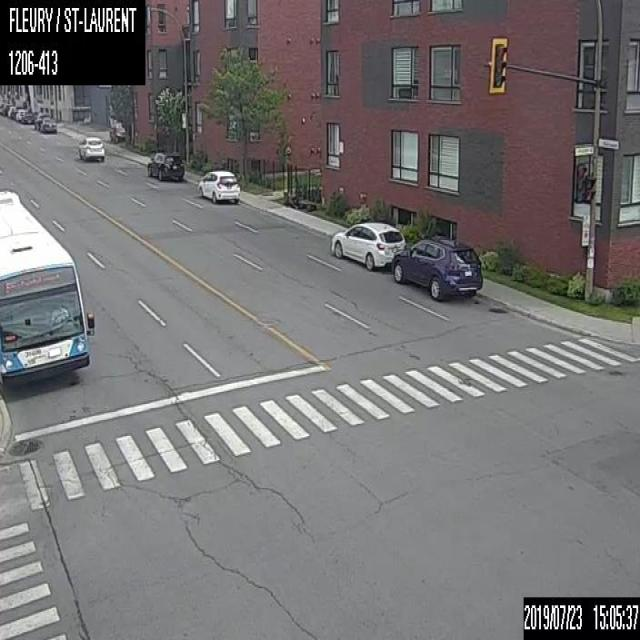bus: (0, 190, 94, 382)
vehicle: (391, 238, 483, 302), (330, 220, 406, 268), (196, 168, 240, 207), (144, 149, 183, 183), (76, 133, 104, 160), (34, 112, 49, 130), (40, 116, 56, 132), (21, 110, 33, 122)
